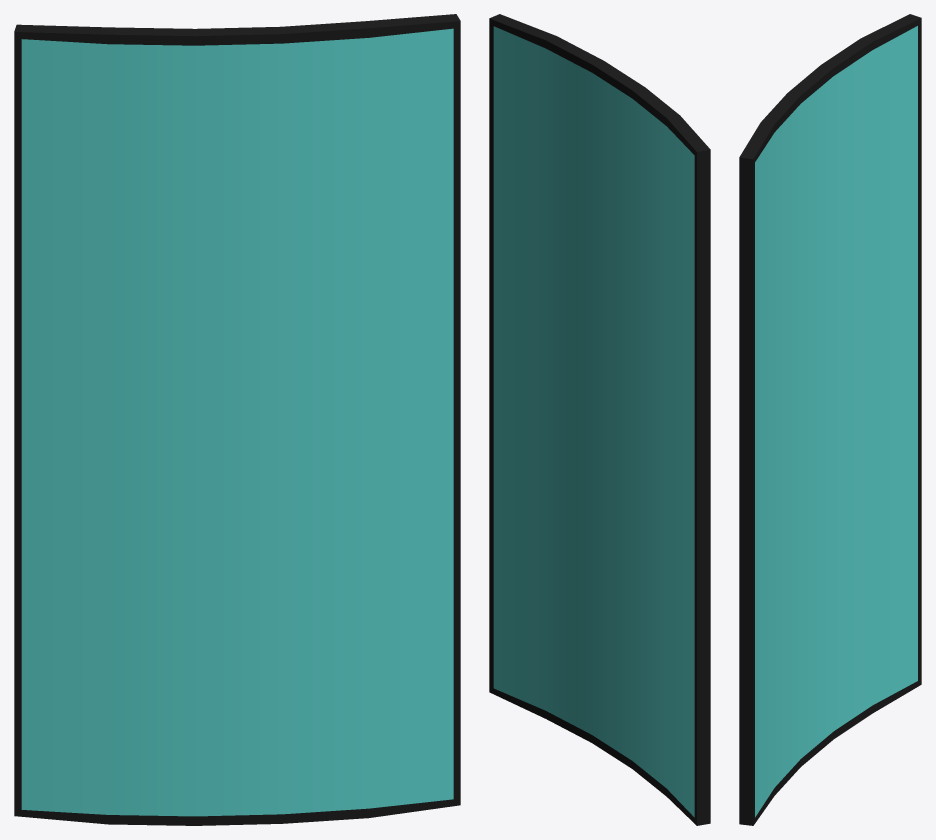
The model's file is elevator_door_l.fbx.
3 views of the same model, side by side, from view 1: azimuth 30°, elevation 25°; view 2: azimuth 150°, elevation 25°; view 3: azimuth 270°, elevation 25° (orthographic). The views are drawn at different scales.
Parts seen in each view (by area): view 1: elevator_door_l; view 2: elevator_door_l; view 3: elevator_door_l.
Part boxes in pixels (box(x1,y1,x2,y2)): elevator_door_l: box(14, 14, 460, 825); elevator_door_l: box(489, 14, 710, 825); elevator_door_l: box(739, 14, 921, 825).
Bounding box in the file's own units: 133 × 286 × 70.49.
